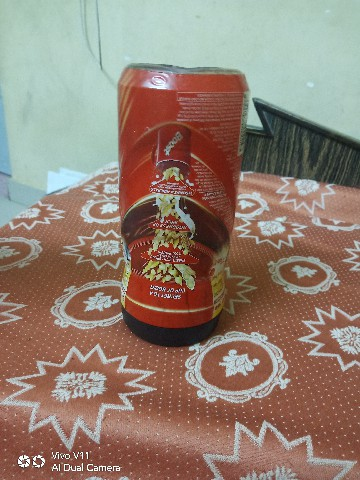boost big: (110, 56, 256, 357)
